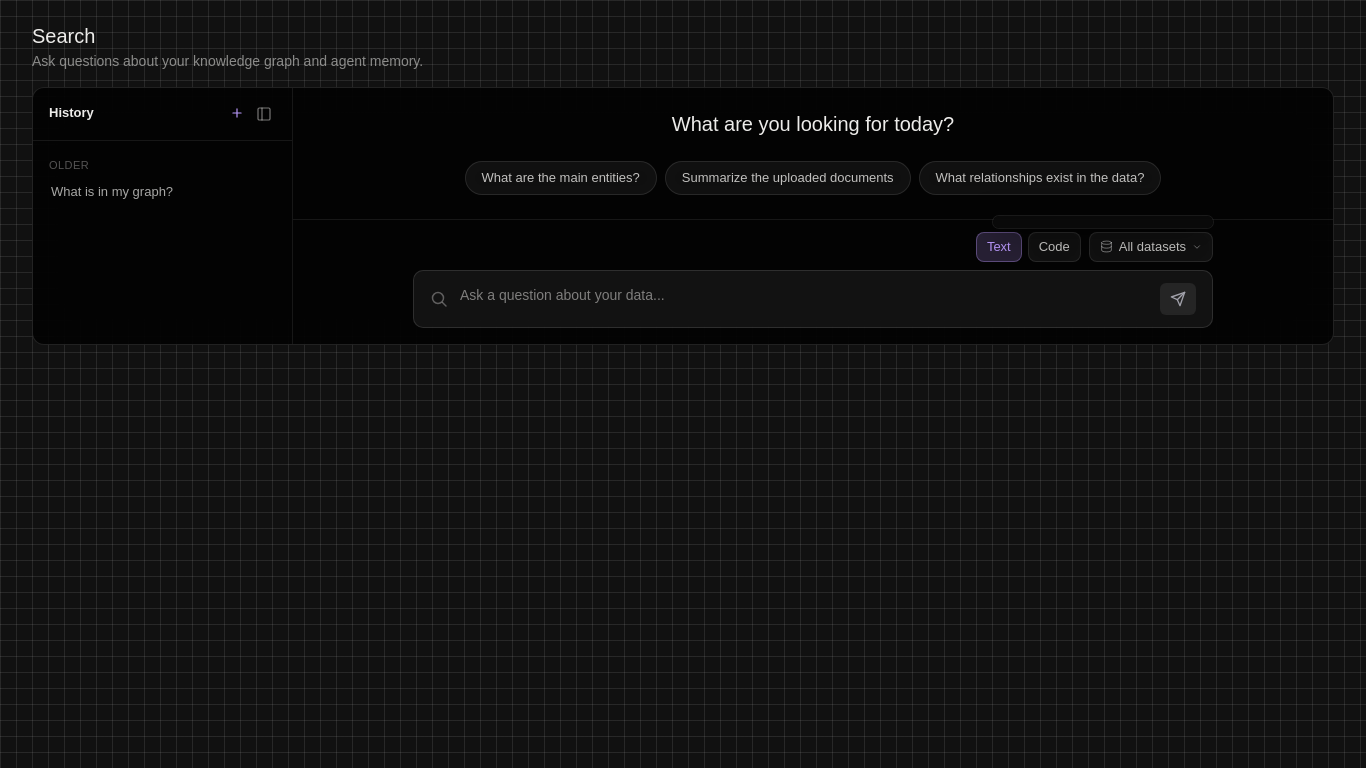
Scenario: SearchPage › keeps a follow-up sent into a restored conversation
Click the text "What is in my graph?" at (112, 192), box [51,184,173,199]
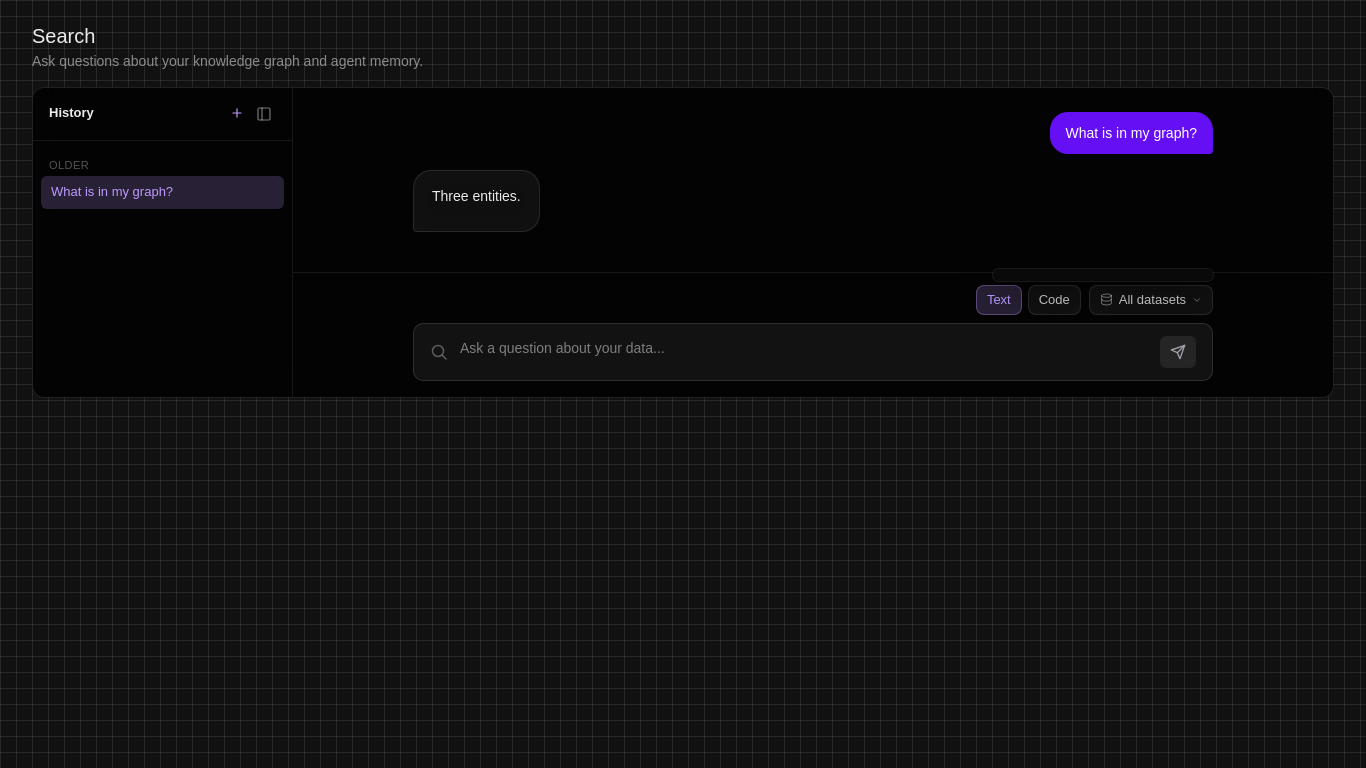
Type "and how many edges?" into the text box with placeholder "Ask a question about your data..." at (804, 352), box [460,340,1148,364]
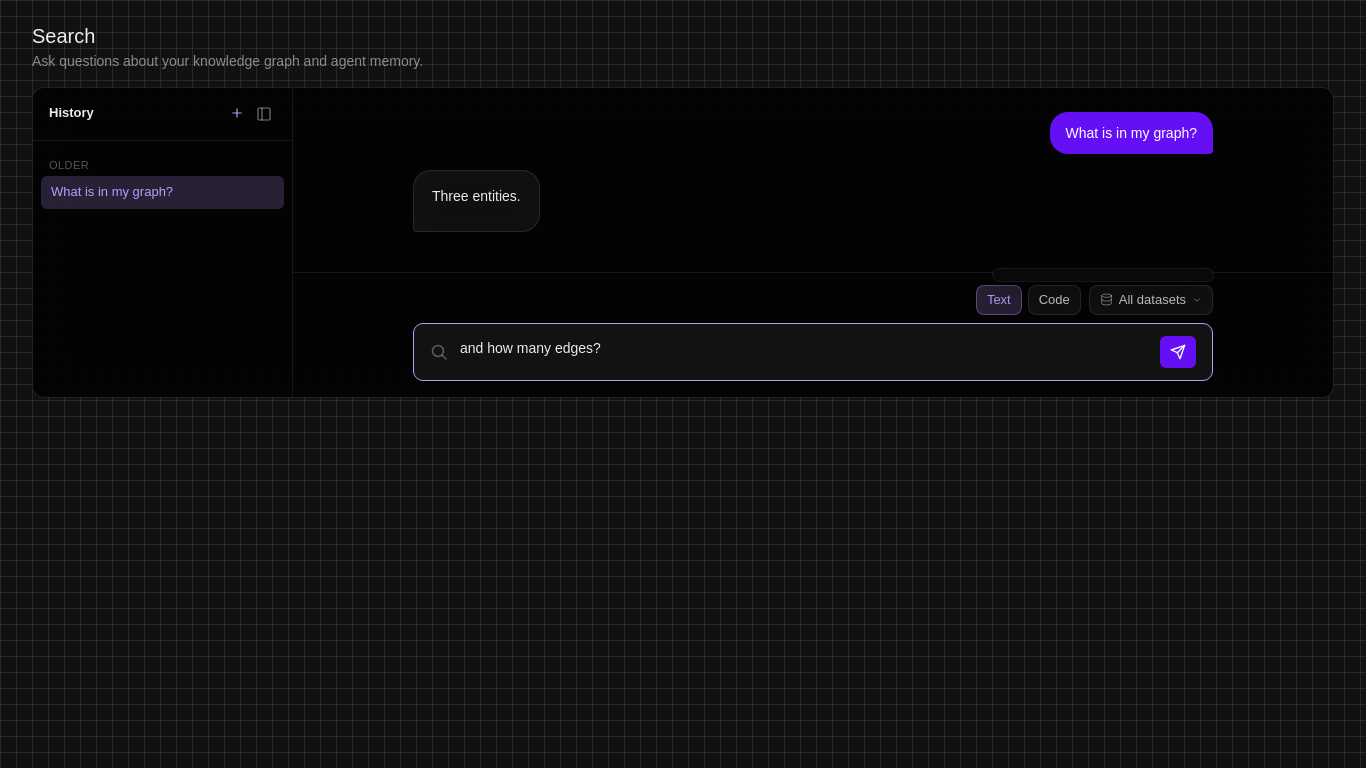
Click the 4th button at (1178, 352), box [1160,336,1196,368]
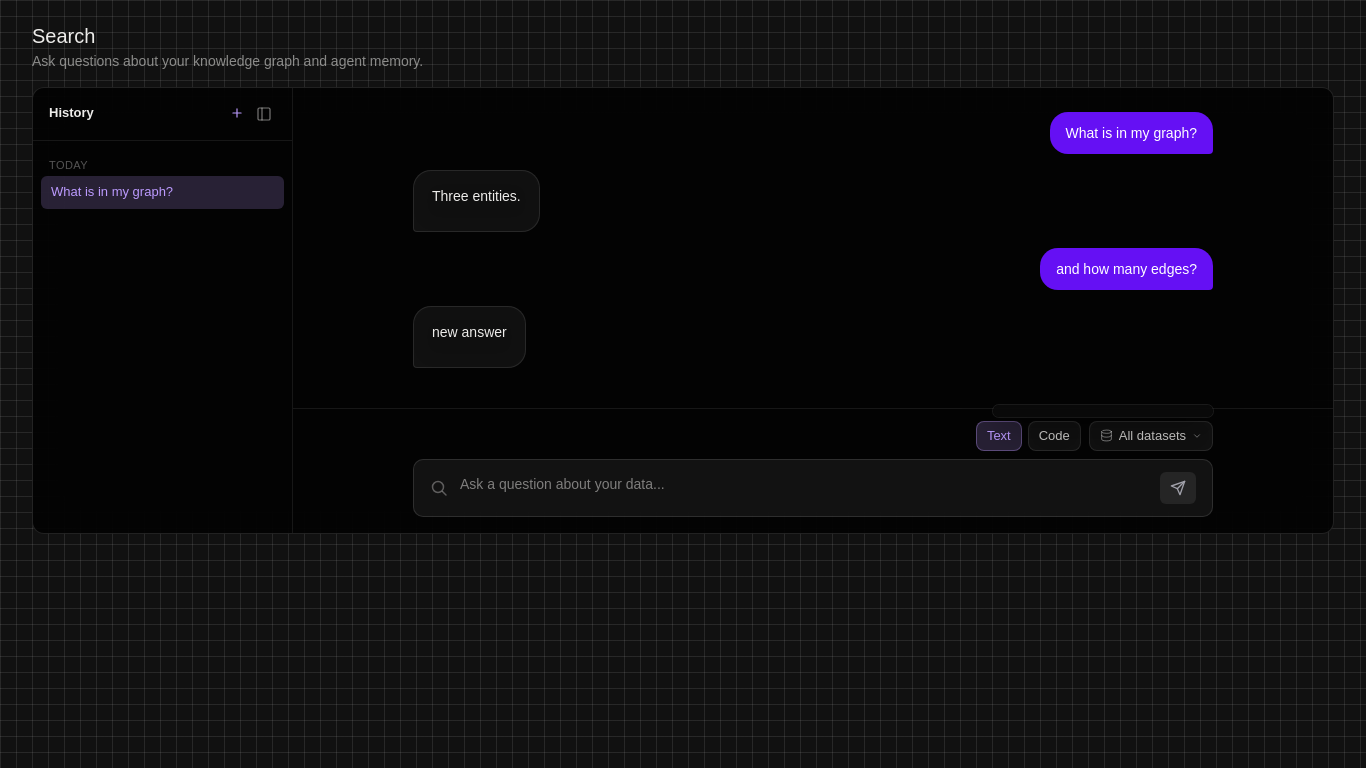
Now the elements with test id "assistant-message" read "Three entities.", "new answer", in this order, box [413,170,540,232]; [413,306,526,368]
